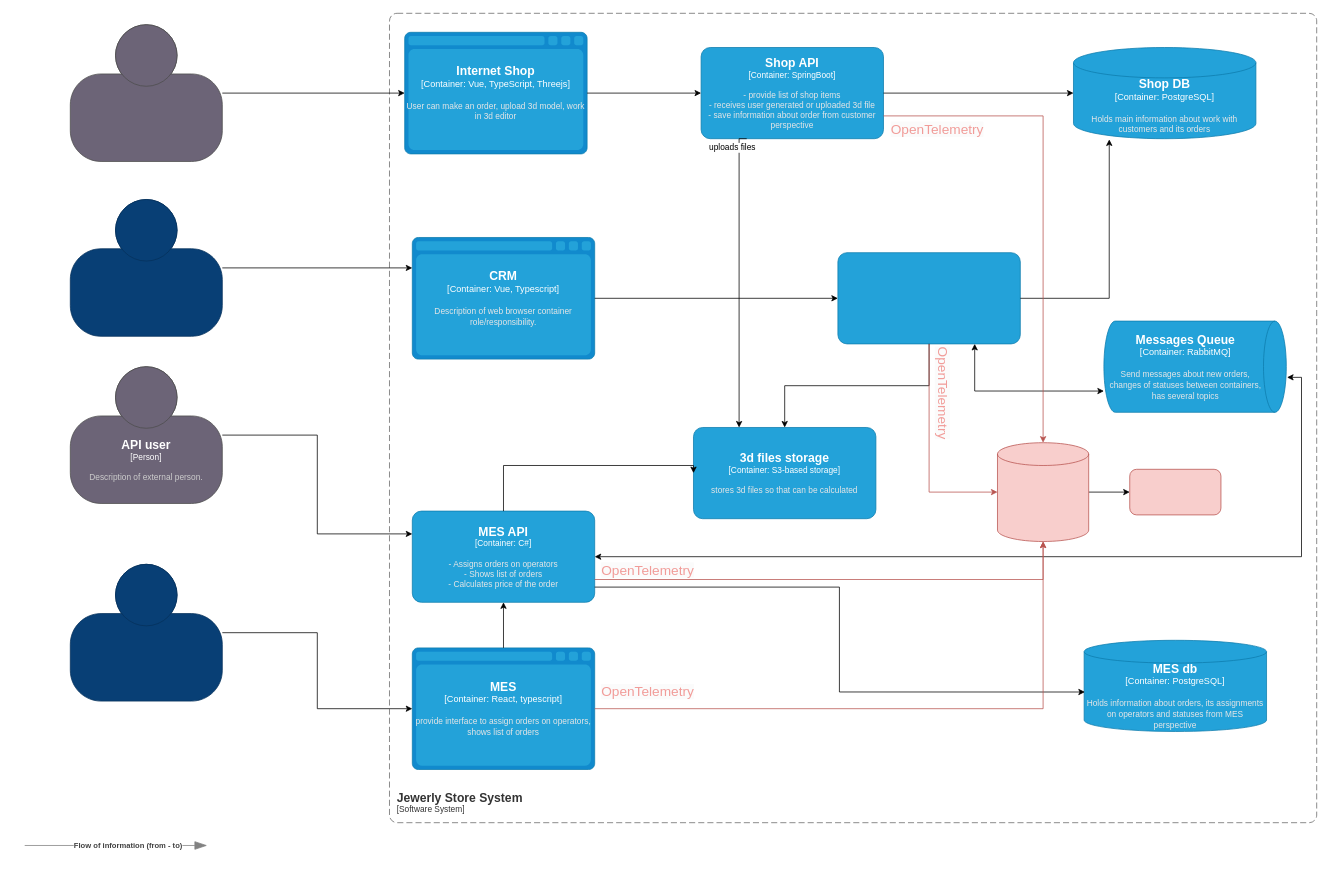
This 1330x871 diagram has some shape labels left out. Each missing label, with the centre of its shape:
"CRM API [Container: SpringBoot] Description of container role/responsibility." belongs at (x=928, y=298).
"Customer [Person] Description of external person." belongs at (x=146, y=93).
"Jaeger" belongs at (x=1043, y=492).
"Jaeger UI" belongs at (x=1175, y=492).
"Operator [Person] Takes order in work, manufactures jewerly" belongs at (x=146, y=632).
"Seller [Person] Operates with order, confirms manufacturing for the user" belongs at (x=146, y=267).
